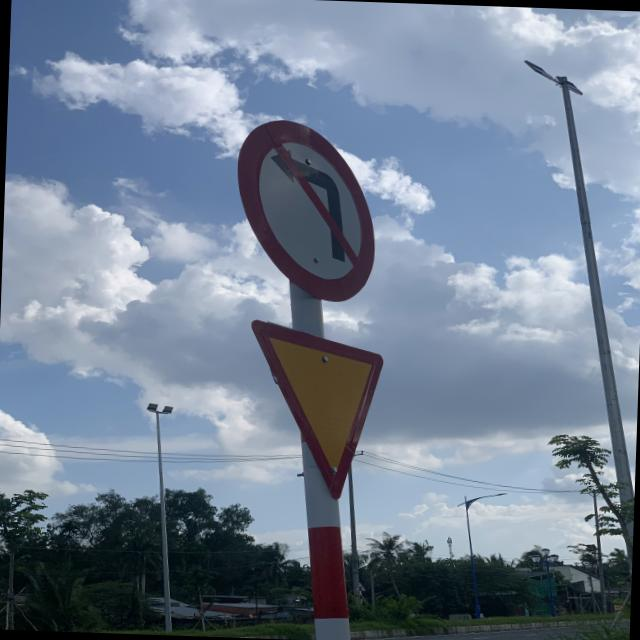Cam_Re_Trai: (234, 115, 386, 300)
Gioi_Han_Toc_Do_25: (244, 317, 391, 505)
